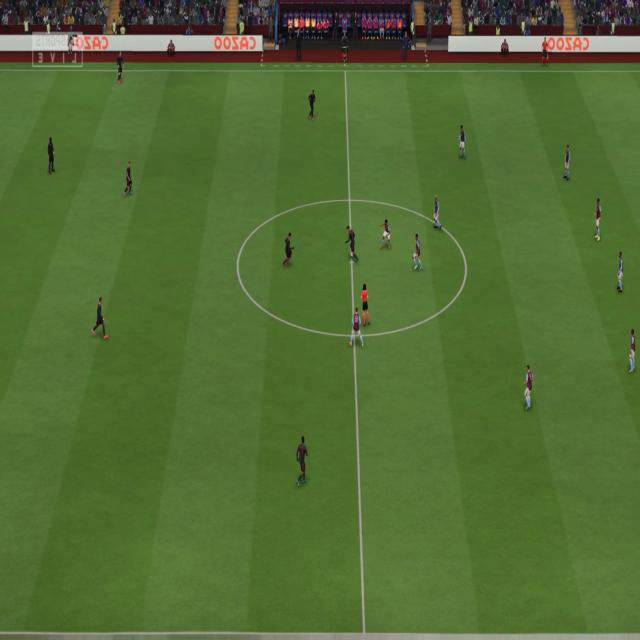Ball: (350, 251, 354, 259)
Referee: (359, 285, 370, 325)
Team-A: (295, 437, 308, 486), (89, 297, 104, 337), (282, 231, 296, 267), (346, 226, 359, 264), (122, 160, 134, 196), (46, 139, 56, 175), (306, 89, 316, 119), (115, 53, 124, 86)
Team-H: (346, 307, 364, 345), (522, 366, 533, 412), (614, 252, 626, 294), (411, 234, 424, 272), (626, 329, 636, 375), (380, 219, 393, 251), (562, 146, 572, 181), (592, 199, 600, 242), (431, 195, 441, 229), (458, 125, 467, 157)
